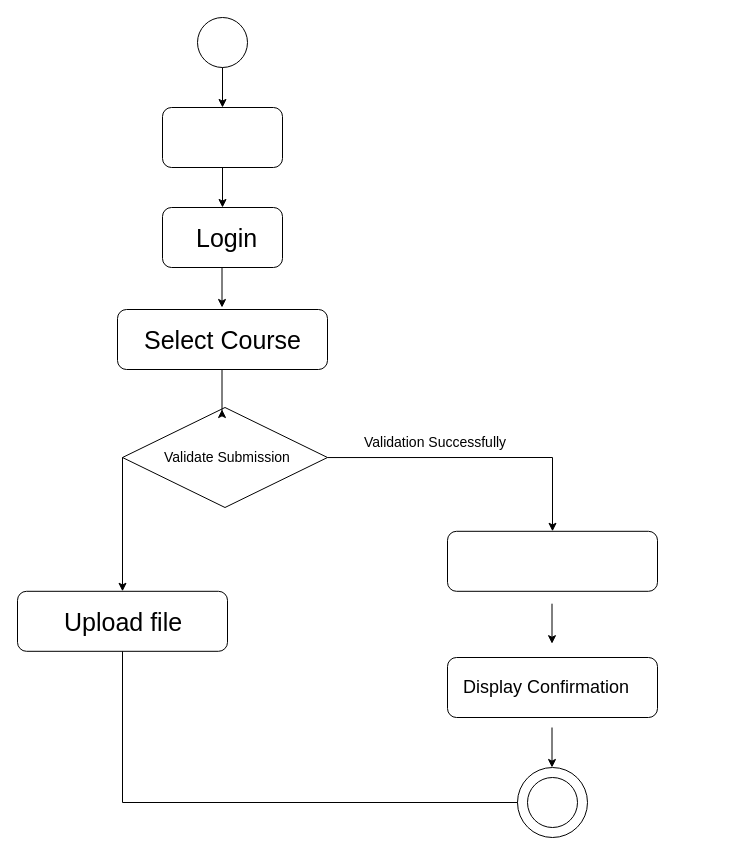
Some shapes in this 744 by 855 pixel diagram are drawn without their labels. Each missing label, with the centre of its shape:
"Save Submission" belongs at (552,560).
"Start" belongs at (222,137).
